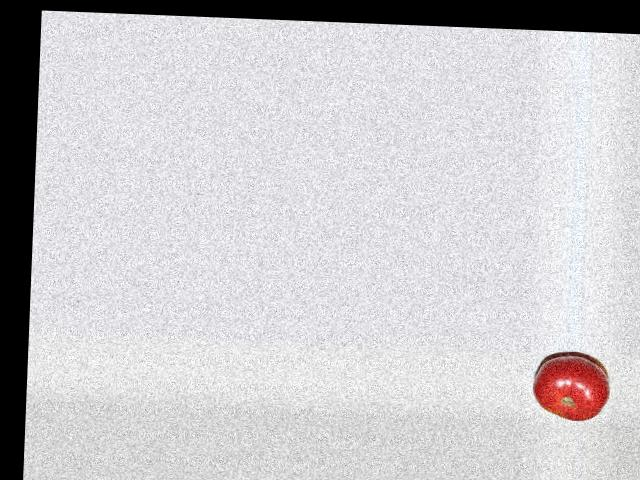tomato: (531, 355, 611, 422)
